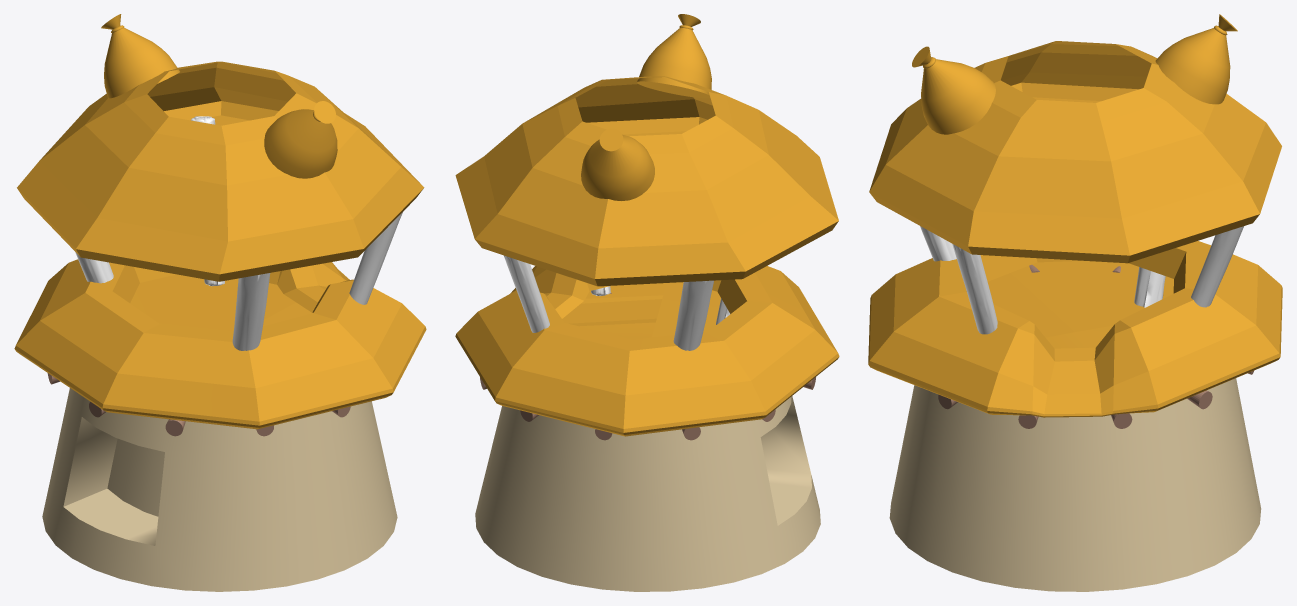
The model's file is Lightower.fbx.
The picture shows the model from 3 angles, left to right: view 1: azimuth 30°, elevation 25°; view 2: azimuth 150°, elevation 25°; view 3: azimuth 270°, elevation 25°; orthographic projection. The views are drawn at different scales.
Parts seen in each view (by area): view 1: Cube_172, Cylinder_157, Cube_155, Cylinder_166, WoodBeam_03__12_, WoodBeam_03__13_, Cylinder_163, WoodBeam_03__14_; view 2: Cube_172, Cylinder_157, Cube_155, Cylinder_166, WoodBeam_03__14_, WoodBeam_03__15_, Cylinder_163; view 3: Cube_172, Cylinder_157, Cube_155, Cylinder_166, WoodBeam_03__13_, WoodBeam_03__15_, Cylinder_163, WoodBeam_03__14_, WoodBeam_03__12_.
Boxes of the visible parts, x1,y1,x2,y2 form: Cube_172: [17, 61, 424, 281]; Cylinder_157: [42, 388, 397, 591]; Cube_155: [14, 259, 426, 429]; Cylinder_166: [101, 14, 337, 178]; WoodBeam_03__12_: [232, 273, 270, 350]; WoodBeam_03__13_: [349, 212, 402, 304]; Cylinder_163: [47, 373, 350, 436]; WoodBeam_03__14_: [75, 252, 113, 283]; Cube_172: [455, 76, 838, 286]; Cylinder_157: [475, 396, 820, 591]; Cube_155: [455, 266, 839, 436]; Cylinder_166: [581, 14, 711, 200]; WoodBeam_03__14_: [673, 280, 713, 350]; WoodBeam_03__15_: [503, 255, 549, 332]; Cylinder_163: [480, 293, 815, 440]; Cube_172: [869, 41, 1281, 263]; Cylinder_157: [889, 378, 1261, 591]; Cube_155: [868, 241, 1282, 417]; Cylinder_166: [912, 14, 1237, 134]; WoodBeam_03__13_: [952, 244, 997, 334]; WoodBeam_03__15_: [1191, 226, 1243, 307]; Cylinder_163: [938, 264, 1253, 428]; WoodBeam_03__14_: [1134, 267, 1165, 307]; WoodBeam_03__12_: [920, 226, 956, 261].
Size of the model in its own units: 4932 by 6337 by 4950.
